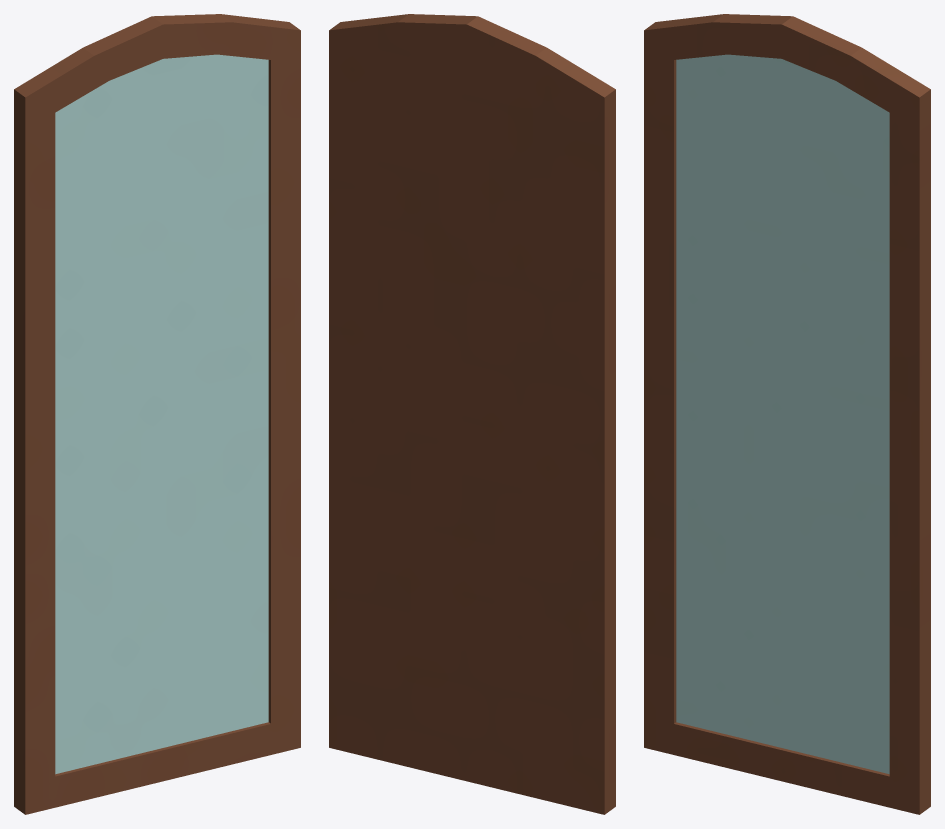
The model's file is Mirror_02_02.fbx.
3 views of the same model, side by side, from view 1: azimuth 30°, elevation 25°; view 2: azimuth 150°, elevation 25°; view 3: azimuth 330°, elevation 25° (orthographic).
Parts seen in each view (by area): view 1: Mirror_02_02; view 2: Mirror_02_02; view 3: Mirror_02_02.
Part boxes in pixels (x1,y1,x2,y2): Mirror_02_02: [14, 14, 300, 814]; Mirror_02_02: [329, 14, 615, 814]; Mirror_02_02: [644, 14, 930, 814].
Size of the model in its own units: 0.5642 by 1.48 by 0.0401.
